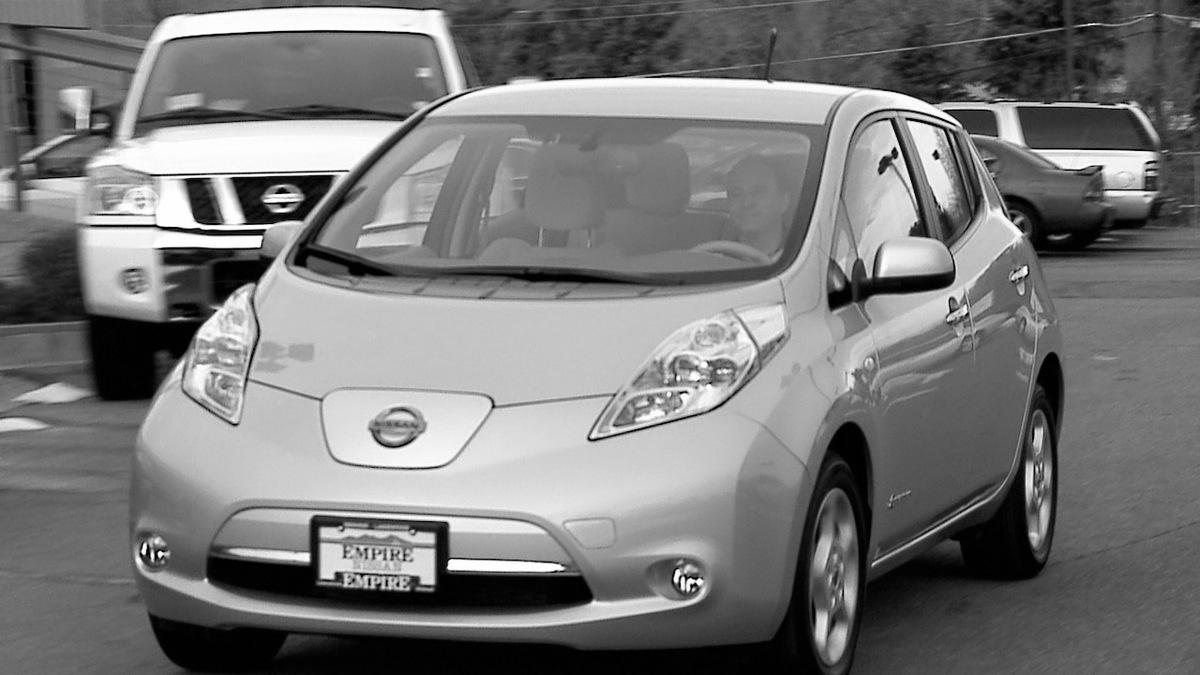car: (124, 75, 1069, 673)
